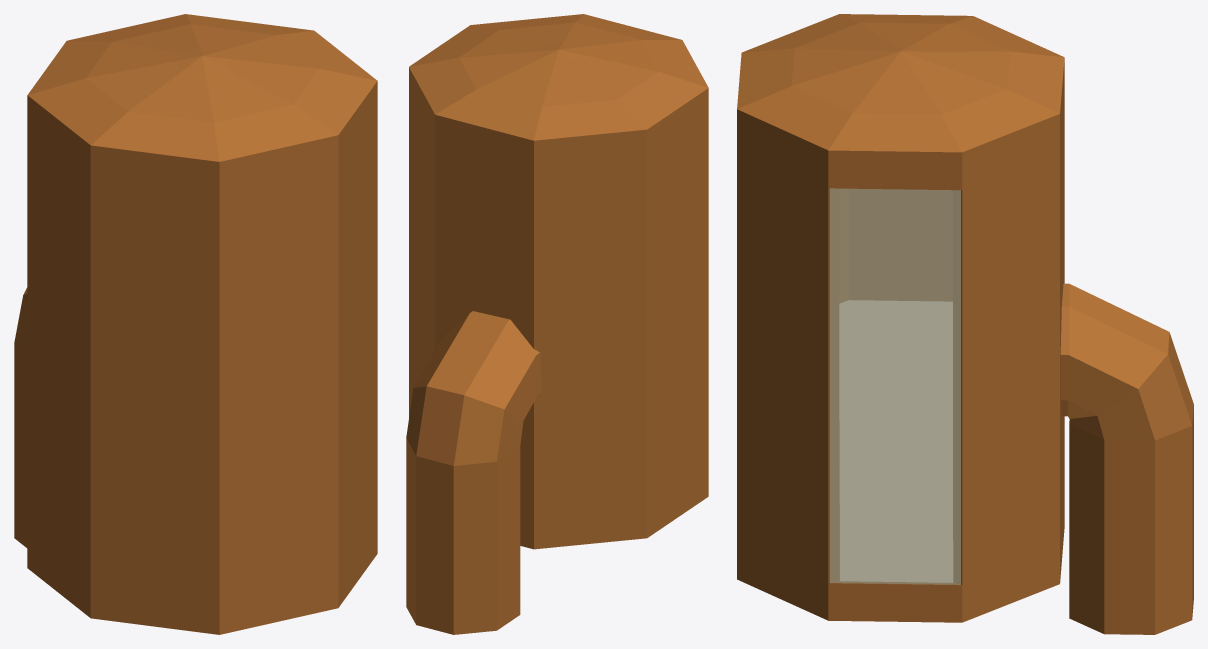
File: VAT40.glb
3 renders of one model, left to right at view 1: azimuth 30°, elevation 25°; view 2: azimuth 150°, elevation 25°; view 3: azimuth 270°, elevation 25°, orthographic. The views are drawn at different scales.
Visible parts, largest first — view 1: Cylinder, Cylinder.001; view 2: Cylinder, Cylinder.001; view 3: Cylinder, glass, Cylinder.001, liquidHeight.
Part boxes in pixels (x1,y1,x2,y2): Cylinder: (27,14,377,634); Cylinder.001: (14,287,27,547); Cylinder: (409,14,708,549); Cylinder.001: (406,311,541,634); Cylinder: (737,14,1064,622); glass: (830,188,960,584); Cylinder.001: (1060,283,1193,634); liquidHeight: (840,300,952,582).
Size of the model in its own units: 1.82 by 3.44 by 2.54.
